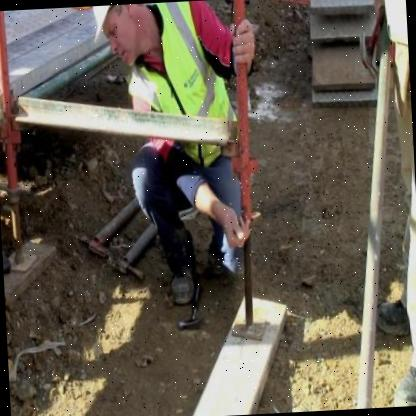bota: (166, 228, 196, 305)
